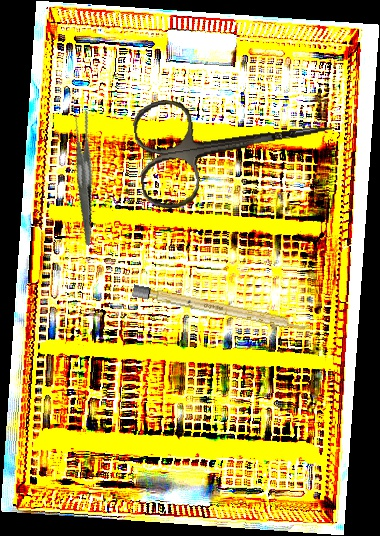Dressing Forceps: (42, 108, 124, 246)
Iris Scissors: (130, 75, 342, 213)
Scalpel Handle: (131, 284, 311, 334)
